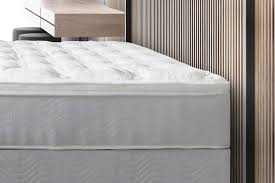bed-matress: (1, 40, 233, 151)
